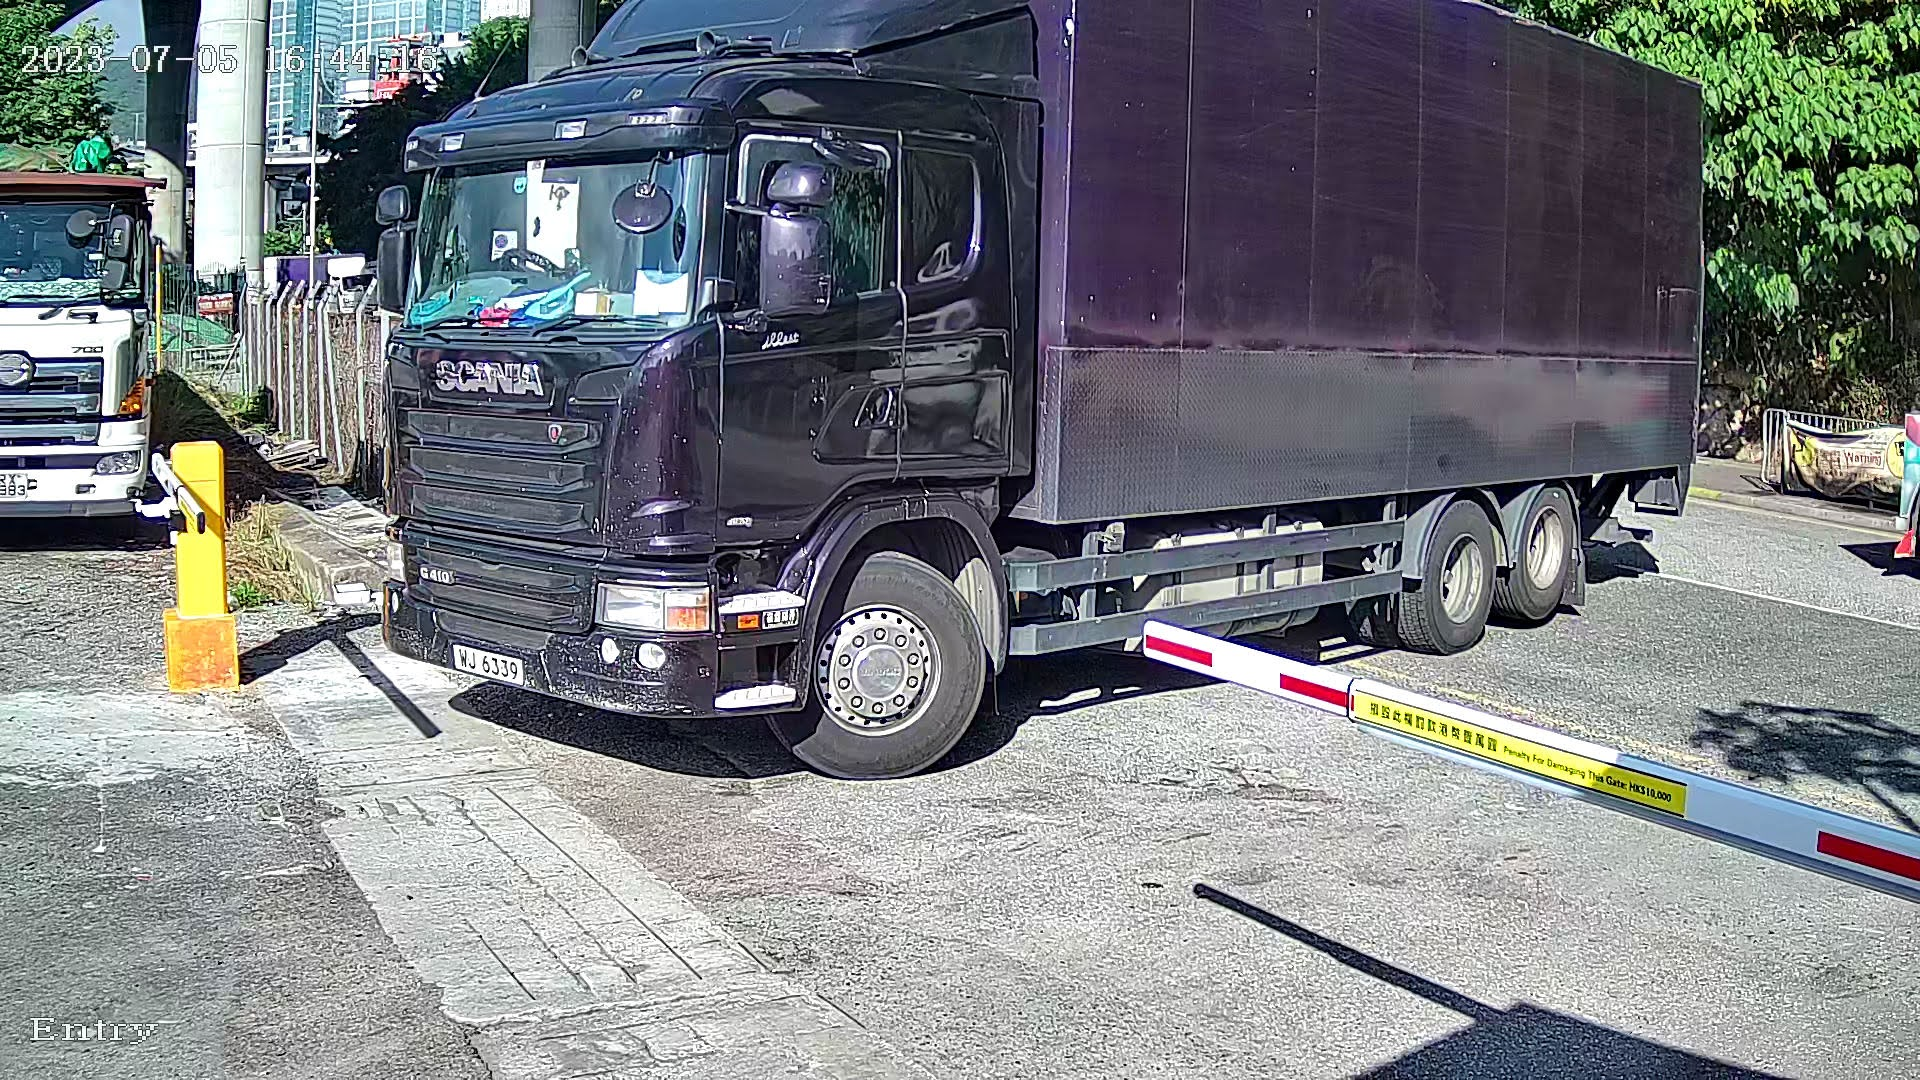truck: (340, 1, 1727, 822)
